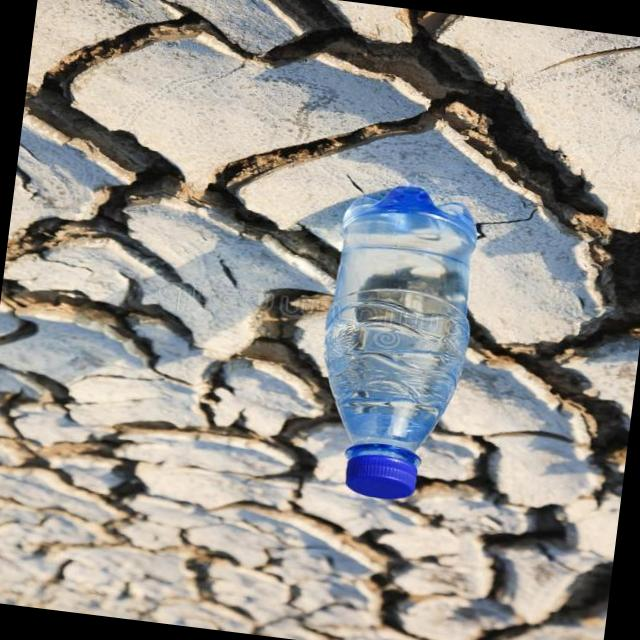plastic_bottle: (306, 178, 488, 507)
